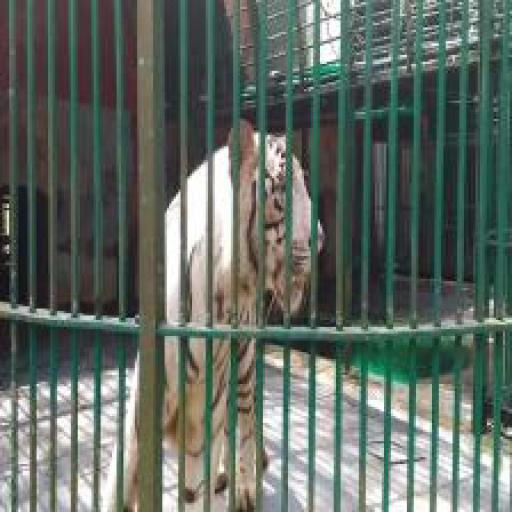Tiger: (91, 112, 327, 512)
